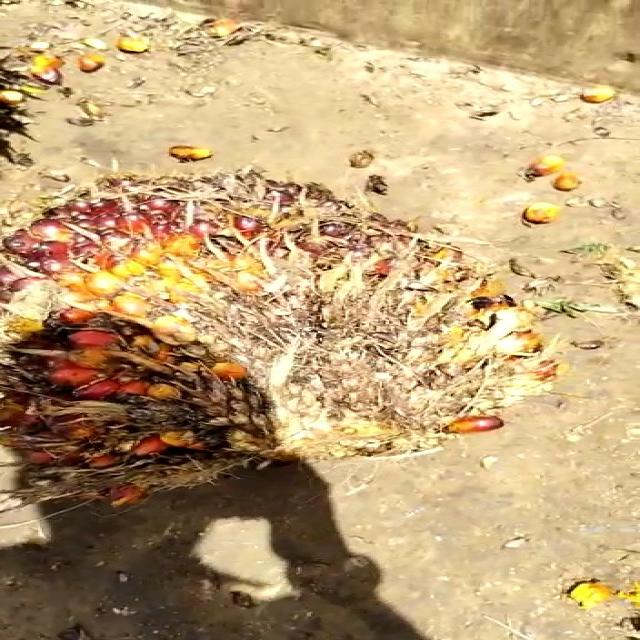palm oil: (0, 147, 566, 500)
